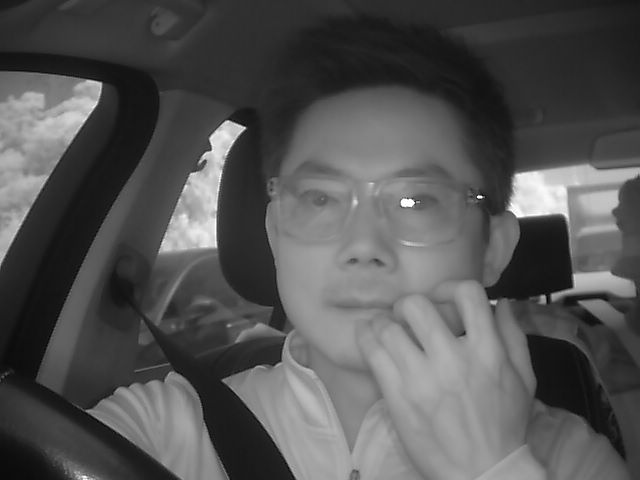hand: (360, 277, 537, 467)
